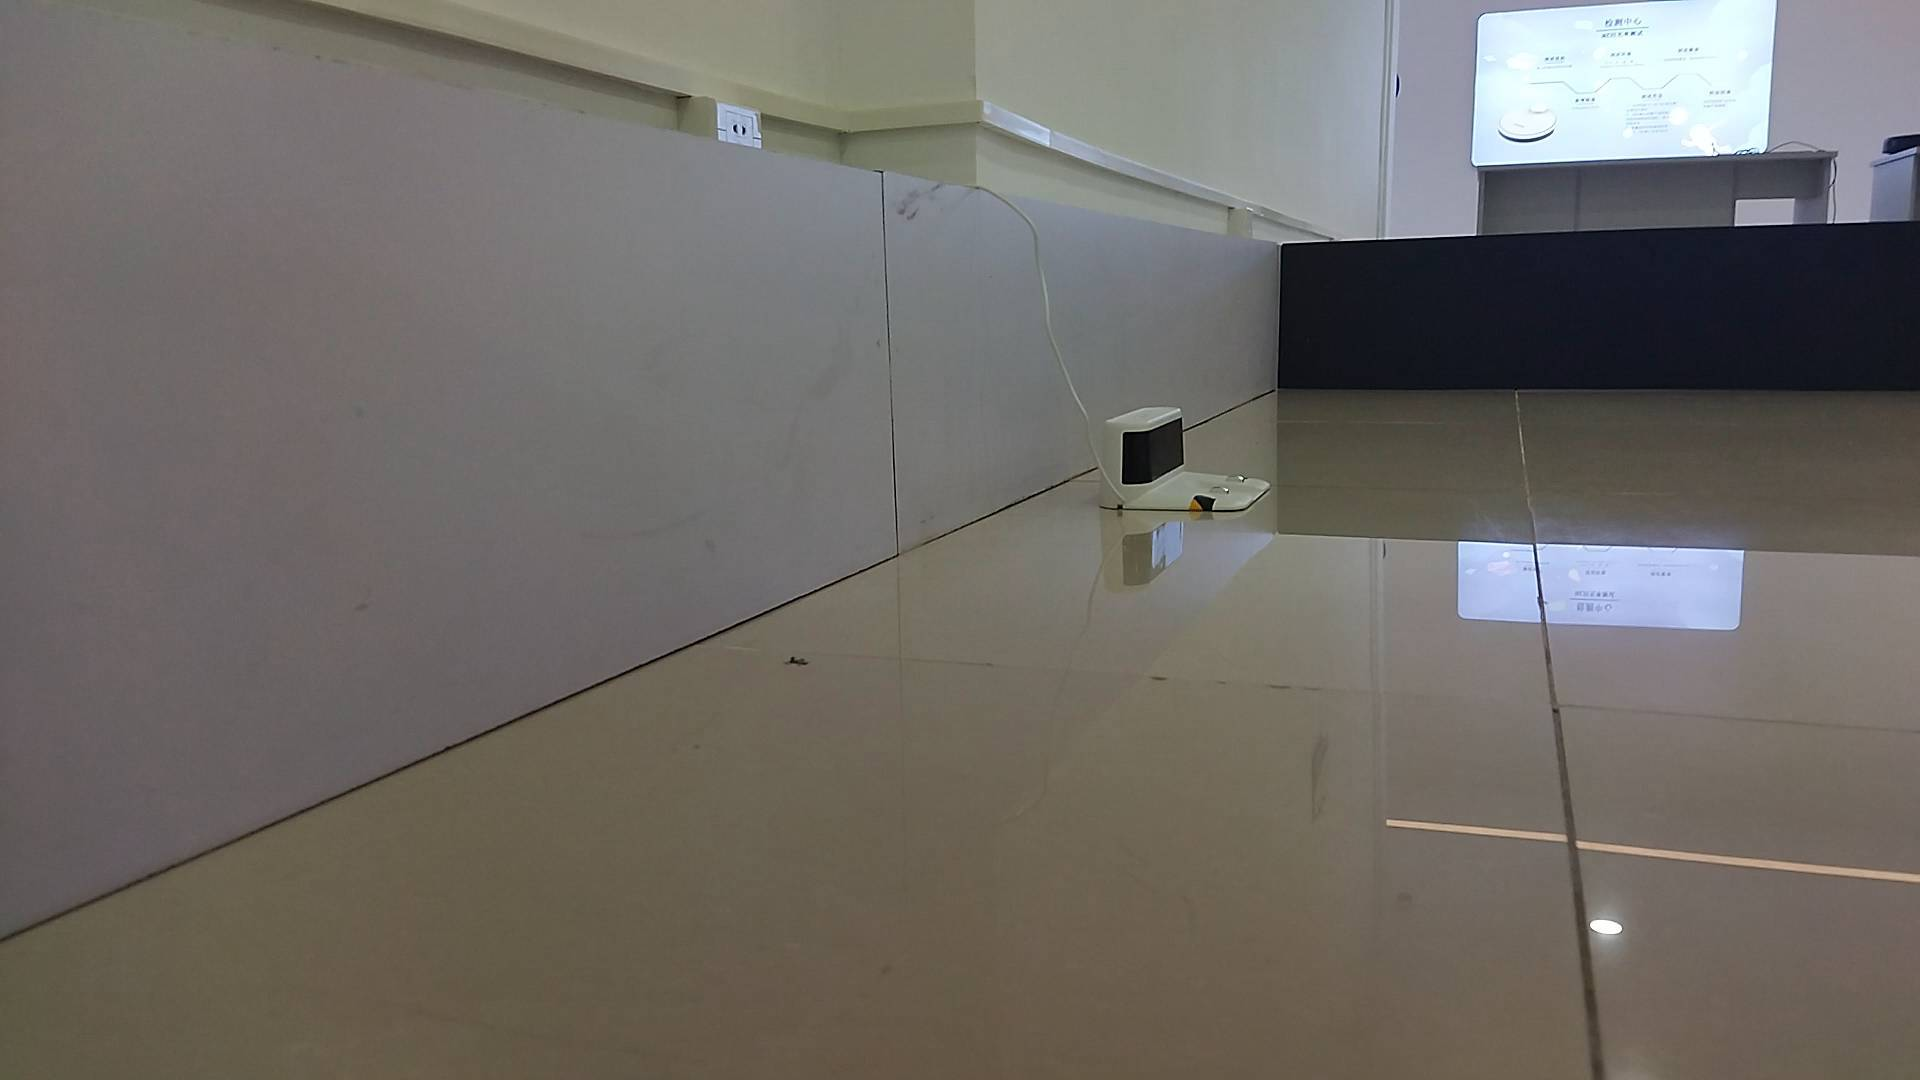recharge seat: (1100, 406, 1273, 512)
